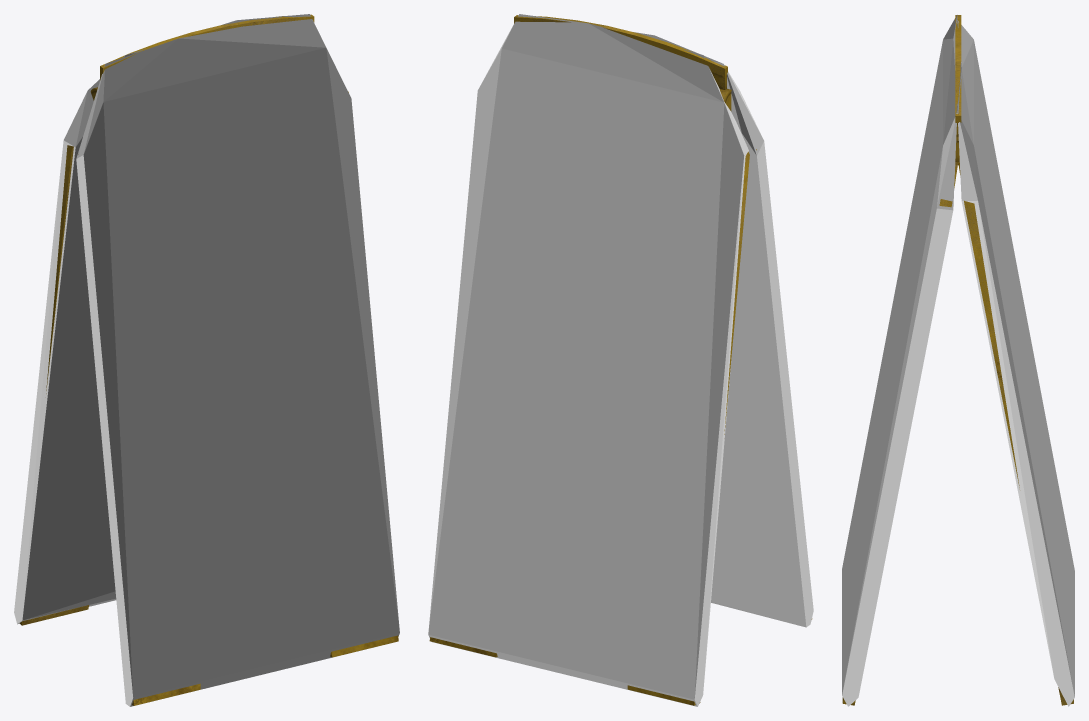
Rendered from SM_WetFloorSign_Open.fbx.
3 renders of one model, left to right at view 1: azimuth 30°, elevation 25°; view 2: azimuth 150°, elevation 25°; view 3: azimuth 270°, elevation 25°, orthographic. The views are drawn at different scales.
Parts seen in each view (by area): view 1: SM_WetFloorSign_Open_ConvexHulls, SM_WetFloorSign_Open; view 2: SM_WetFloorSign_Open_ConvexHulls, SM_WetFloorSign_Open; view 3: SM_WetFloorSign_Open_ConvexHulls, SM_WetFloorSign_Open.
Boxes of the visible parts, box(x1,y1,x2,y2) form: SM_WetFloorSign_Open_ConvexHulls: box(14, 14, 399, 706); SM_WetFloorSign_Open: box(19, 14, 398, 705); SM_WetFloorSign_Open_ConvexHulls: box(428, 14, 813, 706); SM_WetFloorSign_Open: box(429, 15, 812, 705); SM_WetFloorSign_Open_ConvexHulls: box(842, 15, 1074, 706); SM_WetFloorSign_Open: box(842, 15, 1073, 705).
Size of the model in its own units: 45.36 by 35.11 by 98.17.
2 materials, 1 textured.
